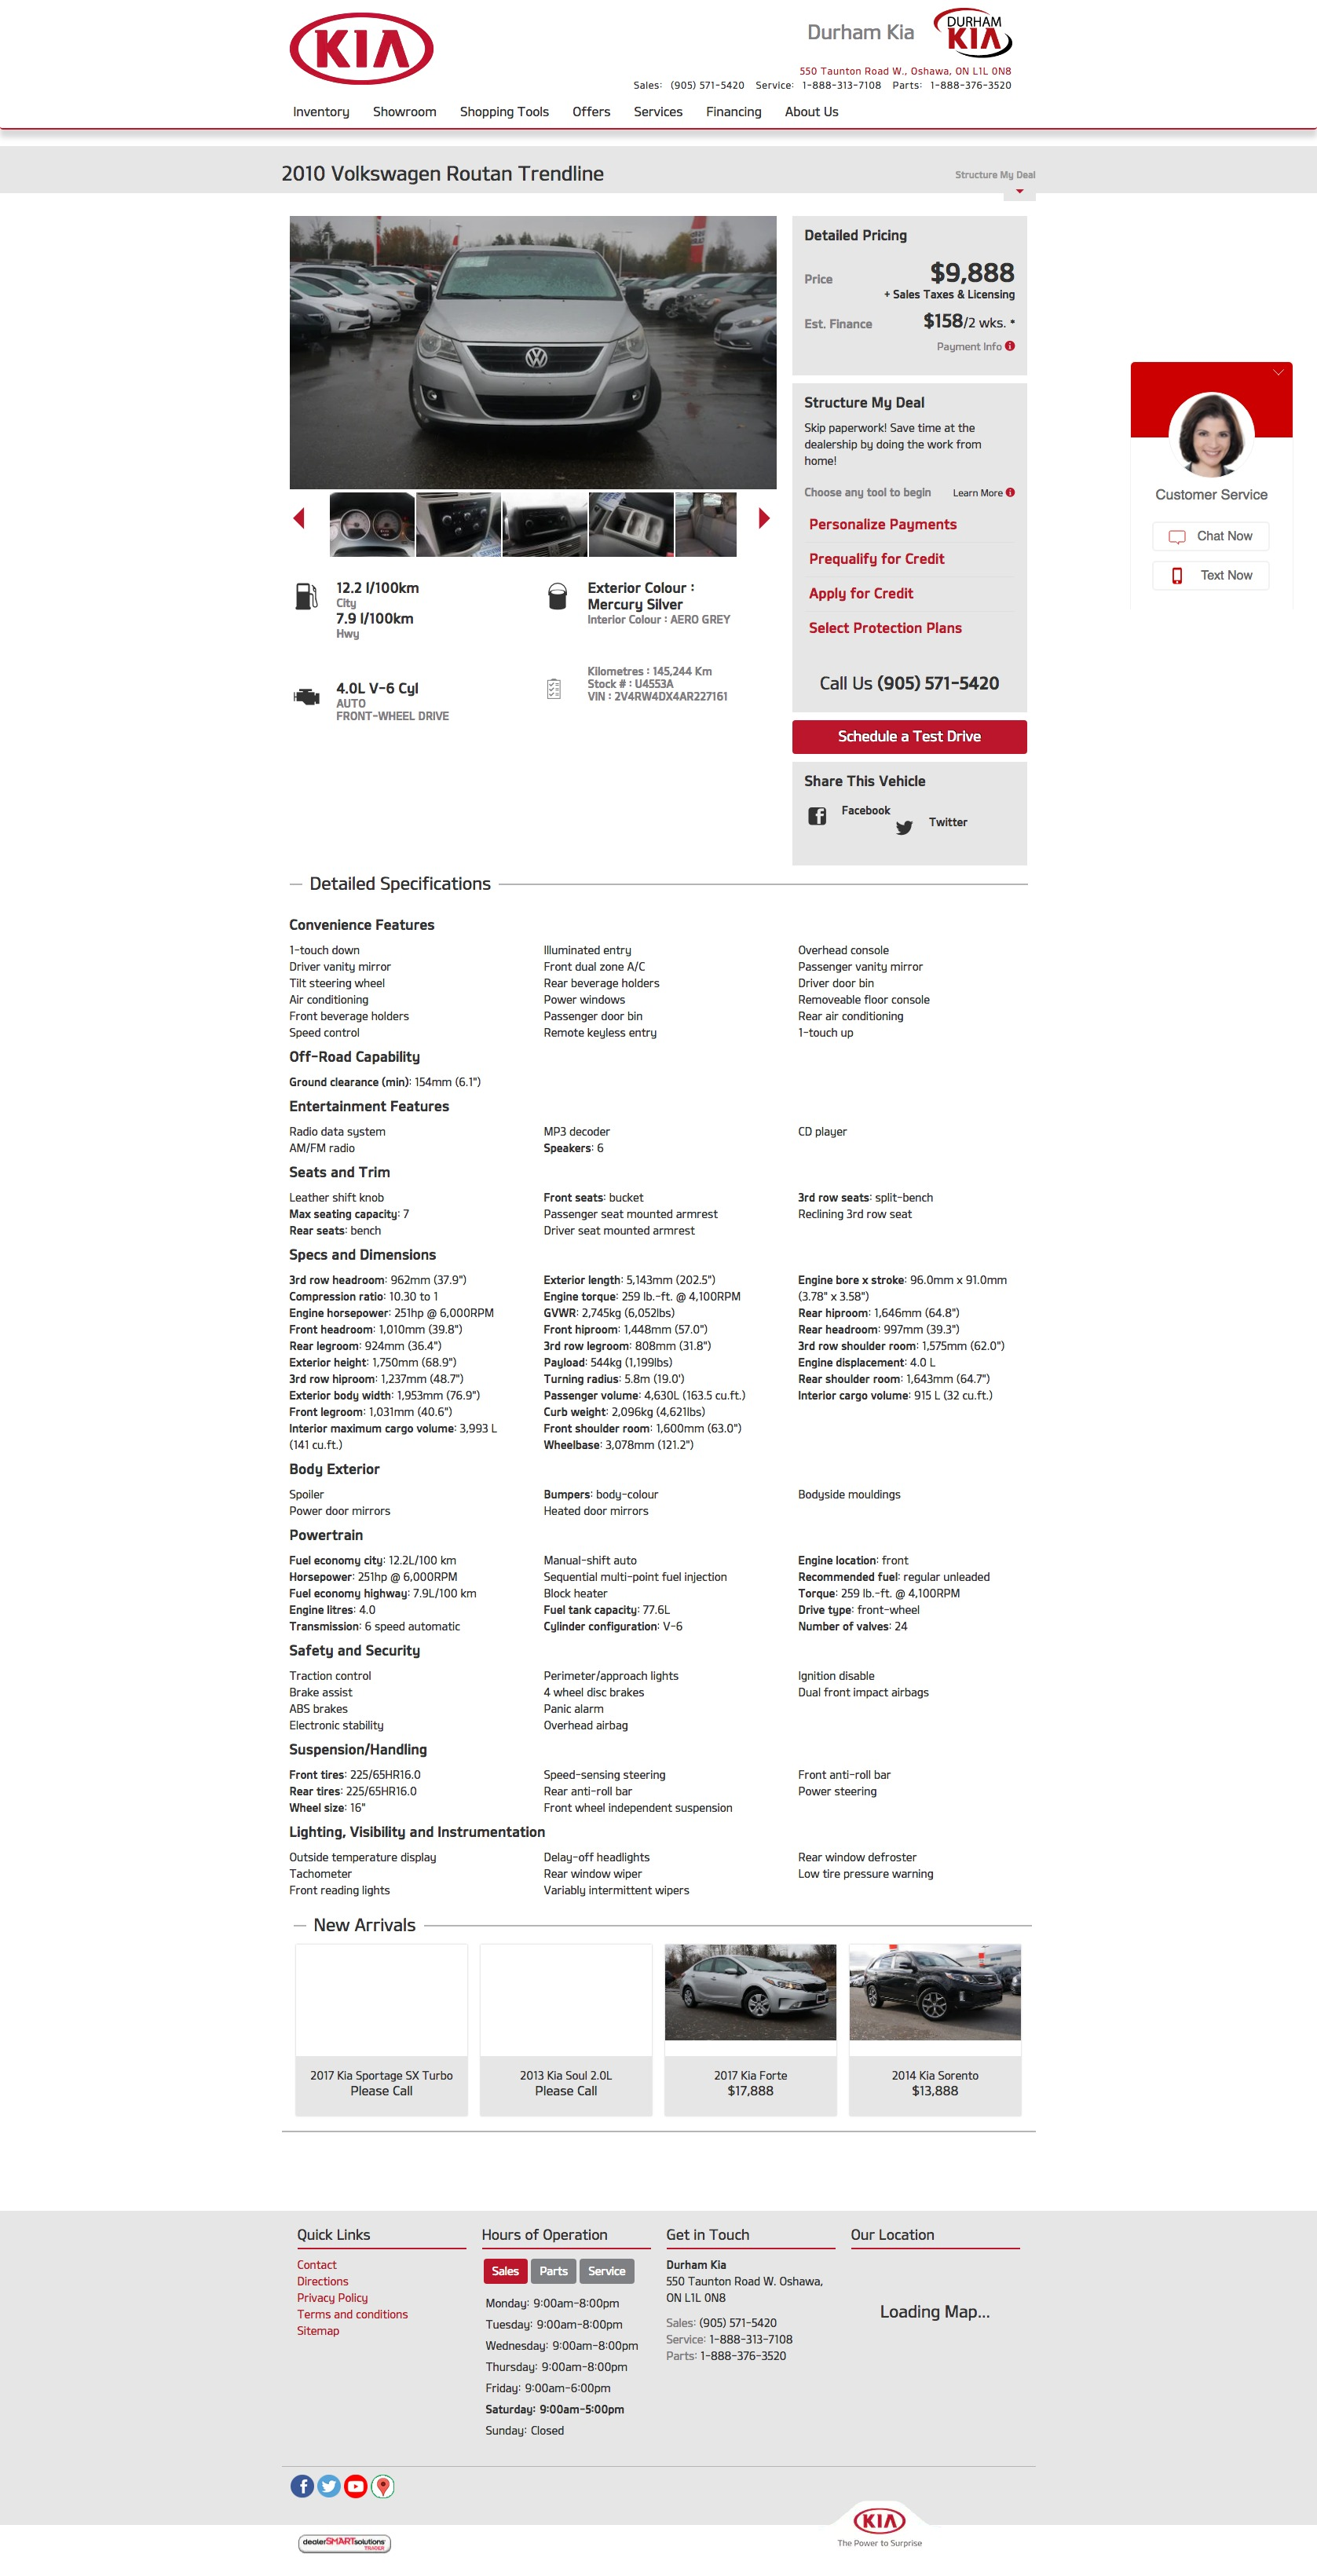car: (759, 509, 771, 529)
